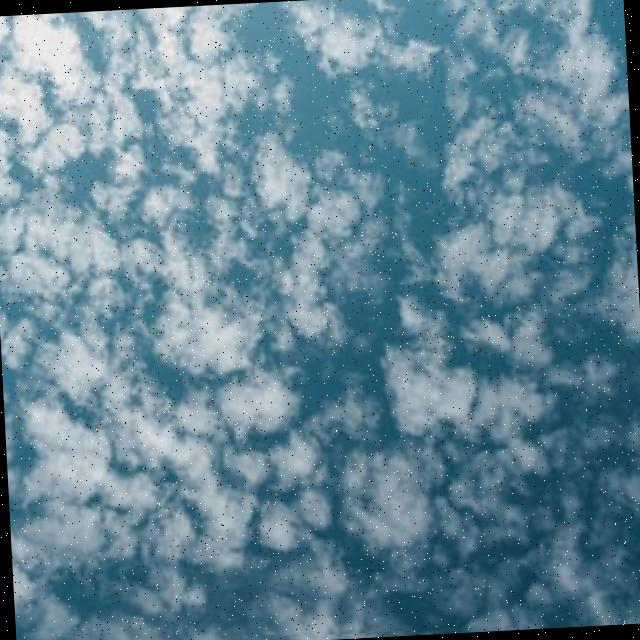Cc: (1, 5, 640, 610)
